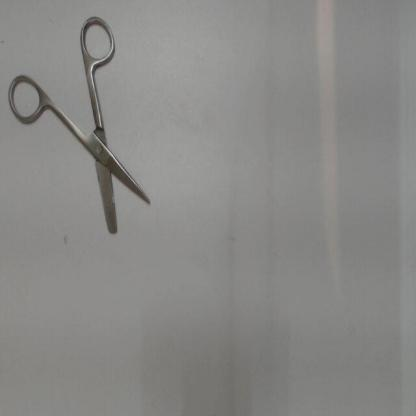Dressing Scissors: (0, 8, 159, 244)
